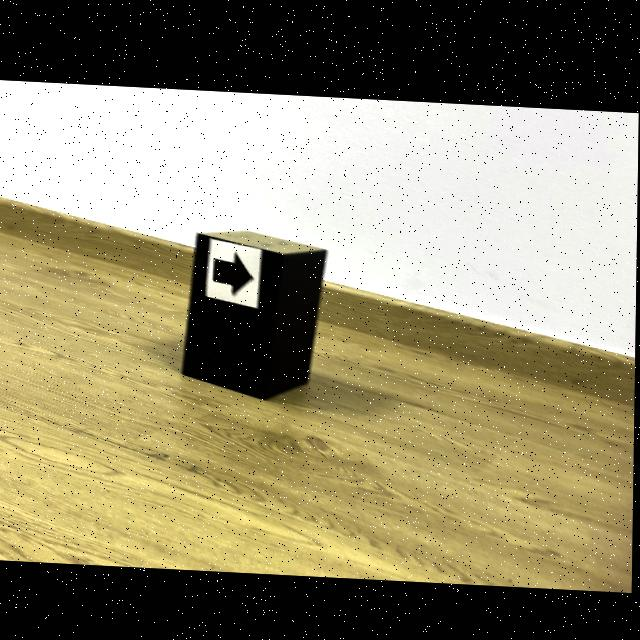RIGHT: (214, 251, 252, 291)
